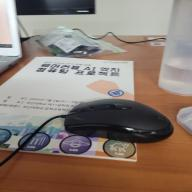mouse: (63, 98, 175, 144)
